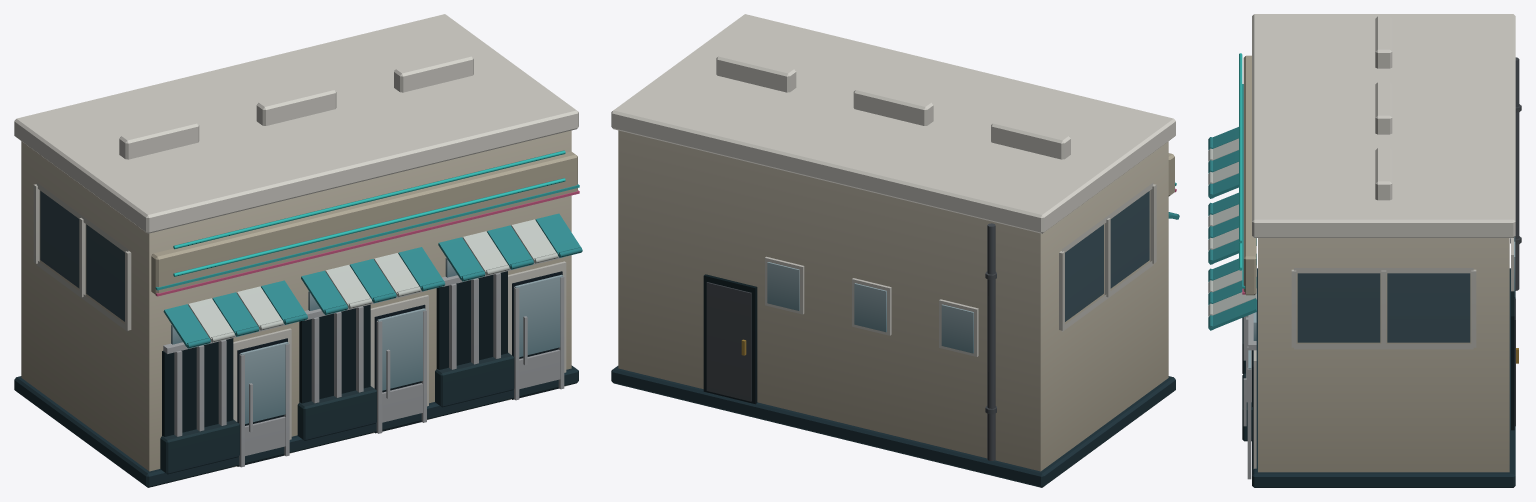
File: deco-shopfront-row.glb
The picture shows the model from 3 angles, left to right: view 1: azimuth 30°, elevation 25°; view 2: azimuth 150°, elevation 25°; view 3: azimuth 270°, elevation 25°; orthographic projection.
Parts seen in each view (by area): view 1: deco_shopfront_row; view 2: deco_shopfront_row; view 3: deco_shopfront_row.
Boxes of the visible parts, left/top/right/bottom form: deco_shopfront_row: left=14, top=14, right=582, bottom=487; deco_shopfront_row: left=611, top=14, right=1179, bottom=487; deco_shopfront_row: left=1208, top=14, right=1521, bottom=487.
Bounding box in the file's own units: 8.2 × 5.27 × 5.23.
